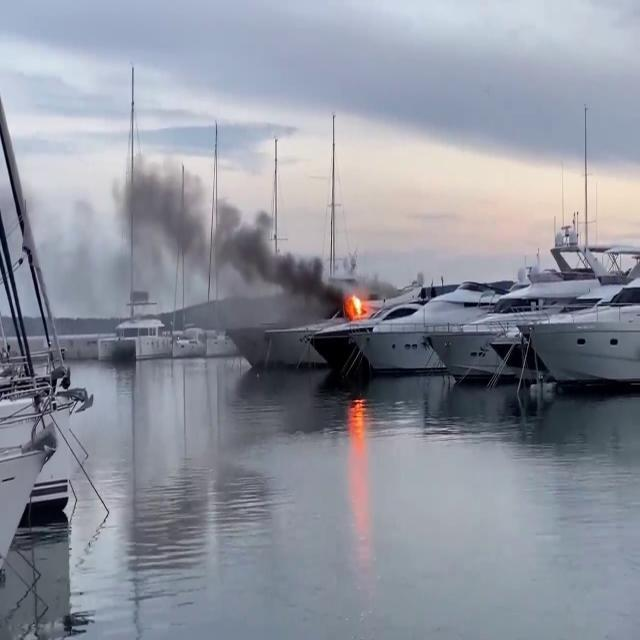Fire: (342, 284, 373, 322)
Smoke: (68, 130, 340, 335)
